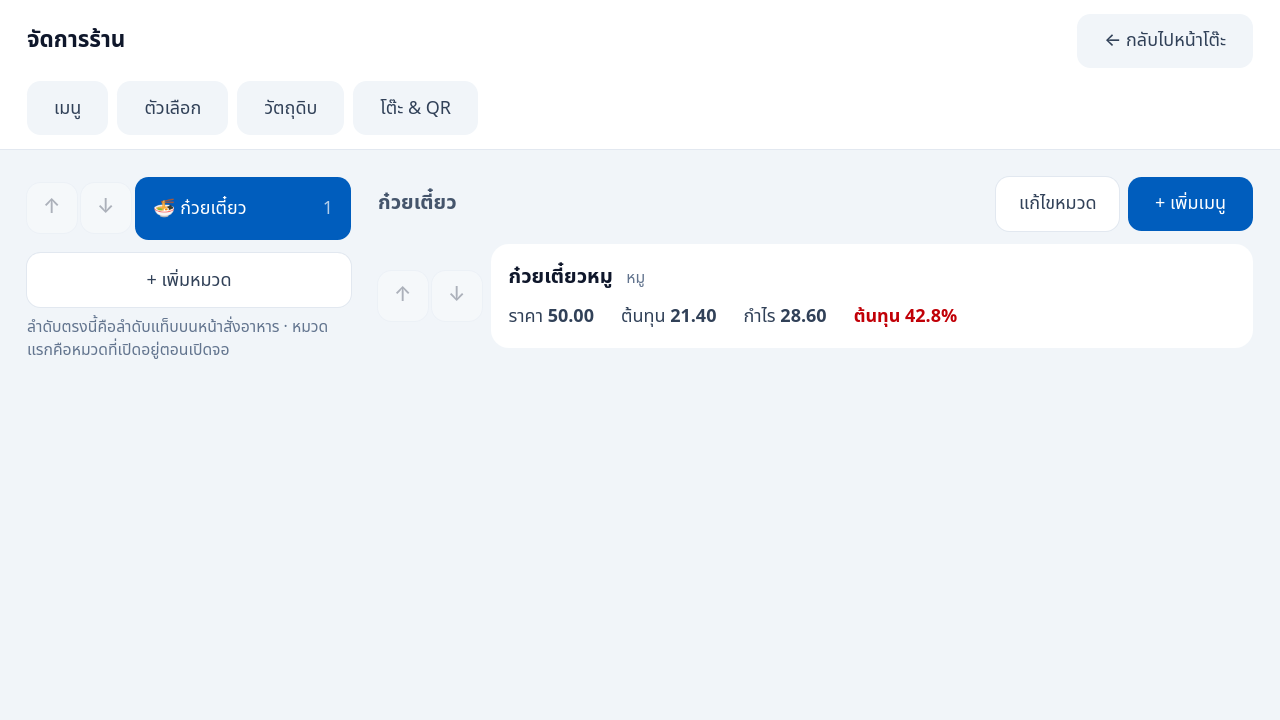
Test case: the editor › has no field for cost at all
The width and height of the screenshot is (1280, 720).
Check: the navigation bar "หมวด" is shown, box [27,176,351,361]
Click the button "ก๋วยเตี๋ยวหมู" at (561, 277), box [490,244,1253,348]
(page scrolled)
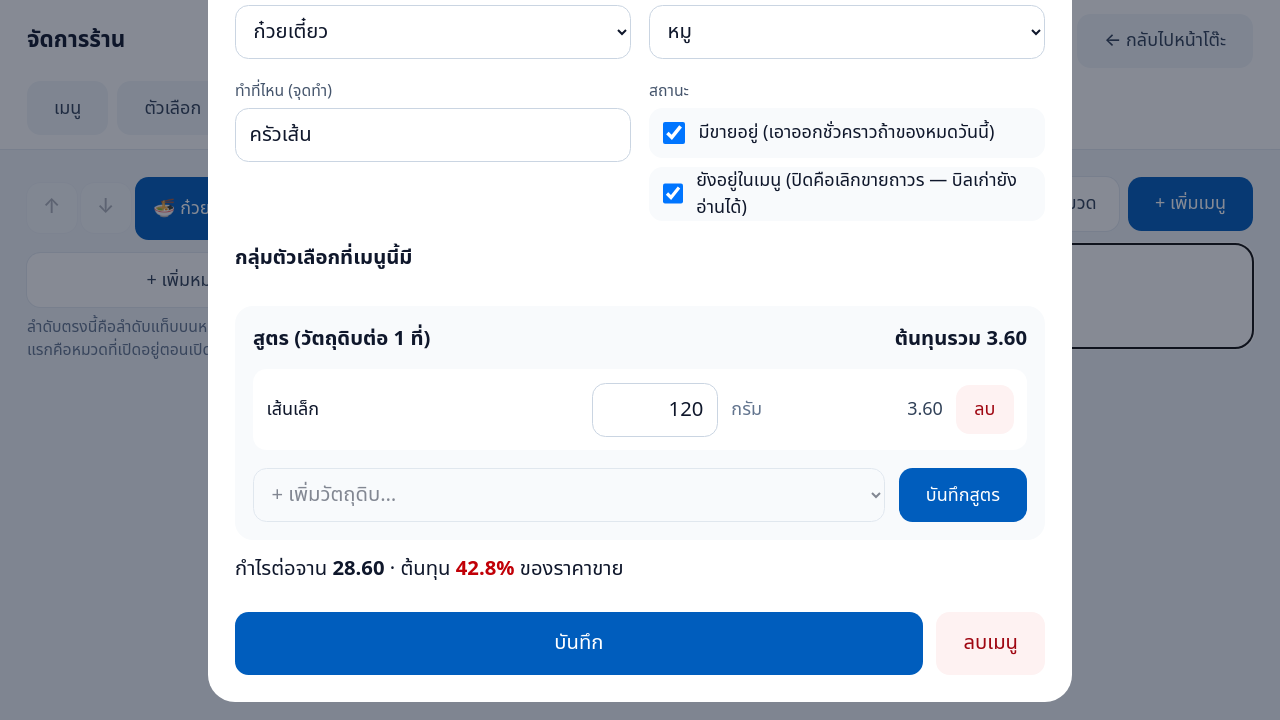
Check: the element "สูตร" is shown, box [235,306,1045,540]
